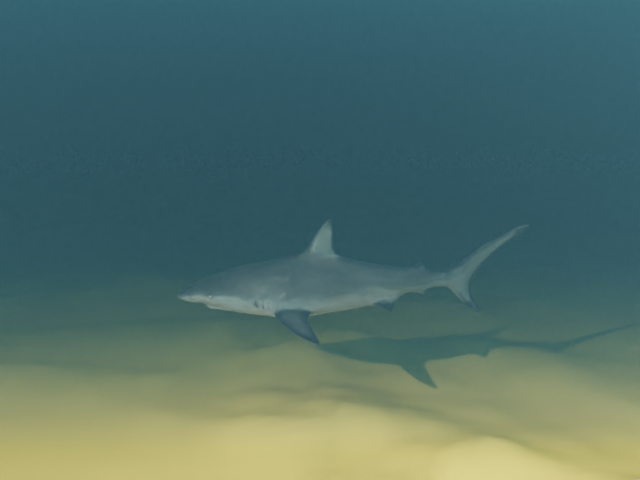Carribean Shark.001: (177, 218, 530, 345)
